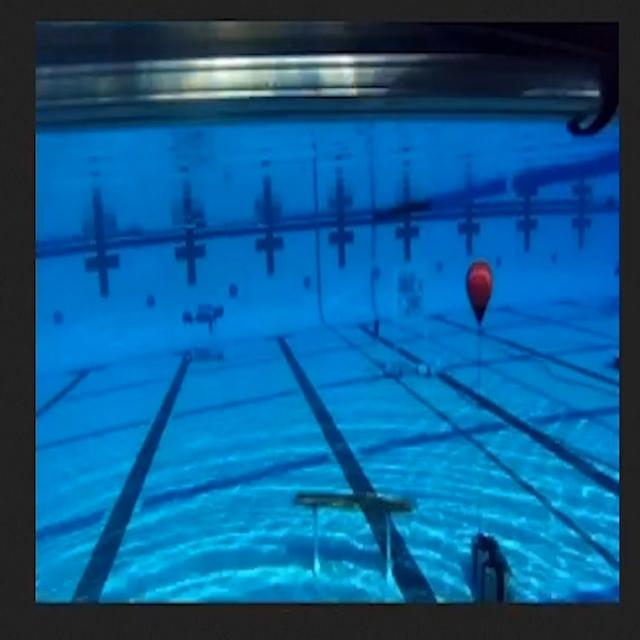Buoy: (455, 245, 511, 347)
Path: (283, 471, 426, 592)
